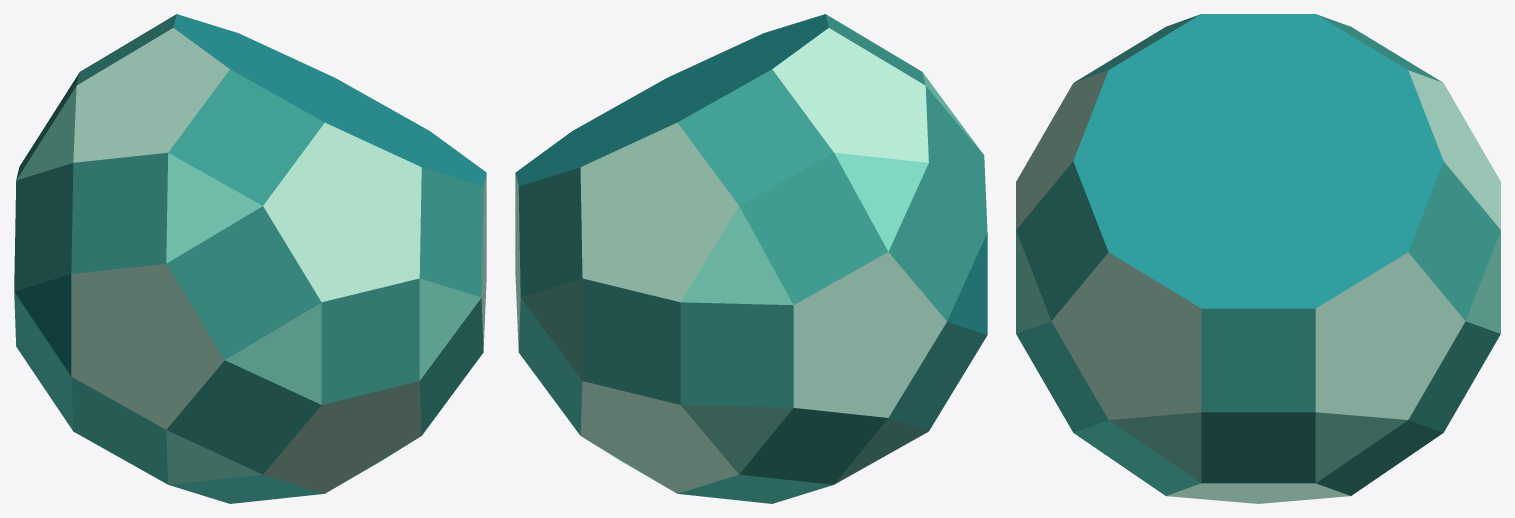
Rendered from J79.RombicosidodecaedroBigiroideDisminuido.gltf.
3 renders of one model, left to right at view 1: azimuth 30°, elevation 25°; view 2: azimuth 150°, elevation 25°; view 3: azimuth 270°, elevation 25°, orthographic.
Parts seen in each view (by area): view 1: J79.RombicosidodecaedroBigiroideDisminuido; view 2: J79.RombicosidodecaedroBigiroideDisminuido; view 3: J79.RombicosidodecaedroBigiroideDisminuido.
Boxes of the visible parts, <box> form: J79.RombicosidodecaedroBigiroideDisminuido: <box>14,14,486,503</box>; J79.RombicosidodecaedroBigiroideDisminuido: <box>515,14,987,503</box>; J79.RombicosidodecaedroBigiroideDisminuido: <box>1016,14,1500,503</box>.
Size of the model in its own units: 19.35 by 19.35 by 18.97.
